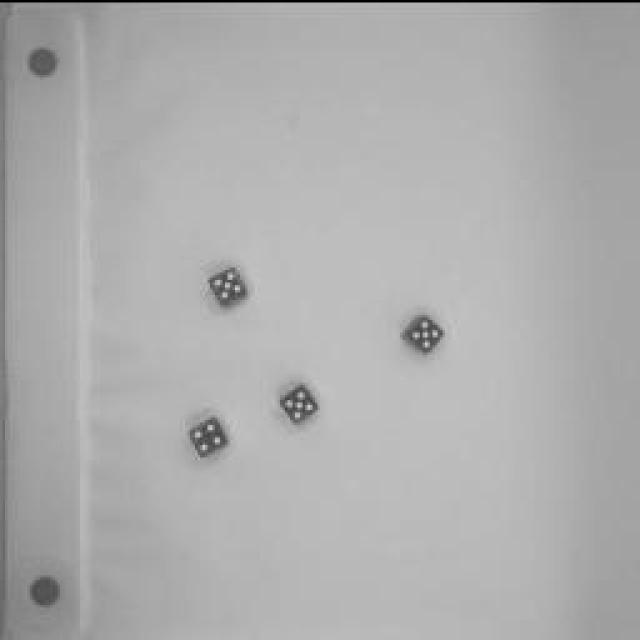dice_4: (181, 409, 231, 459)
dice_5: (395, 306, 453, 356), (274, 375, 326, 430), (204, 258, 254, 312)
